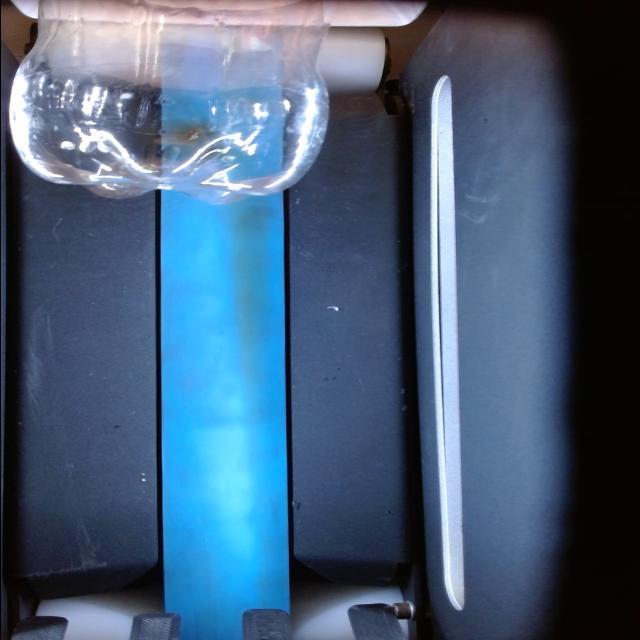bottle: (9, 0, 326, 202)
